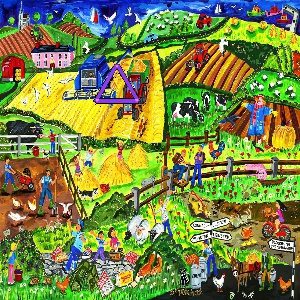triangle: (93, 62, 140, 105)
